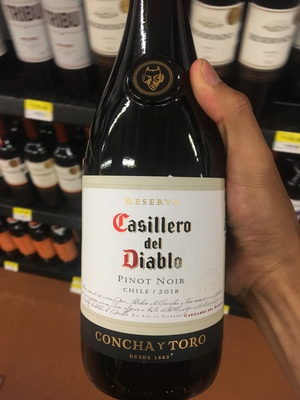casillero del diablo pinot noir: (58, 30, 251, 400)
